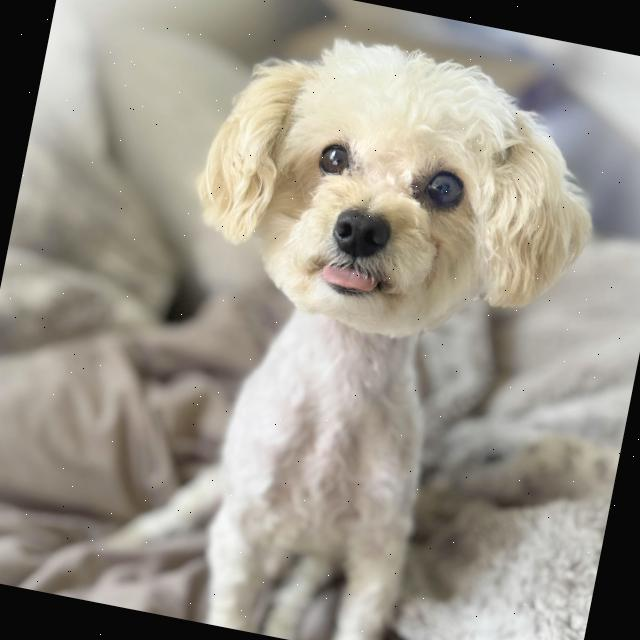Poodle_dog: (155, 0, 628, 390)
